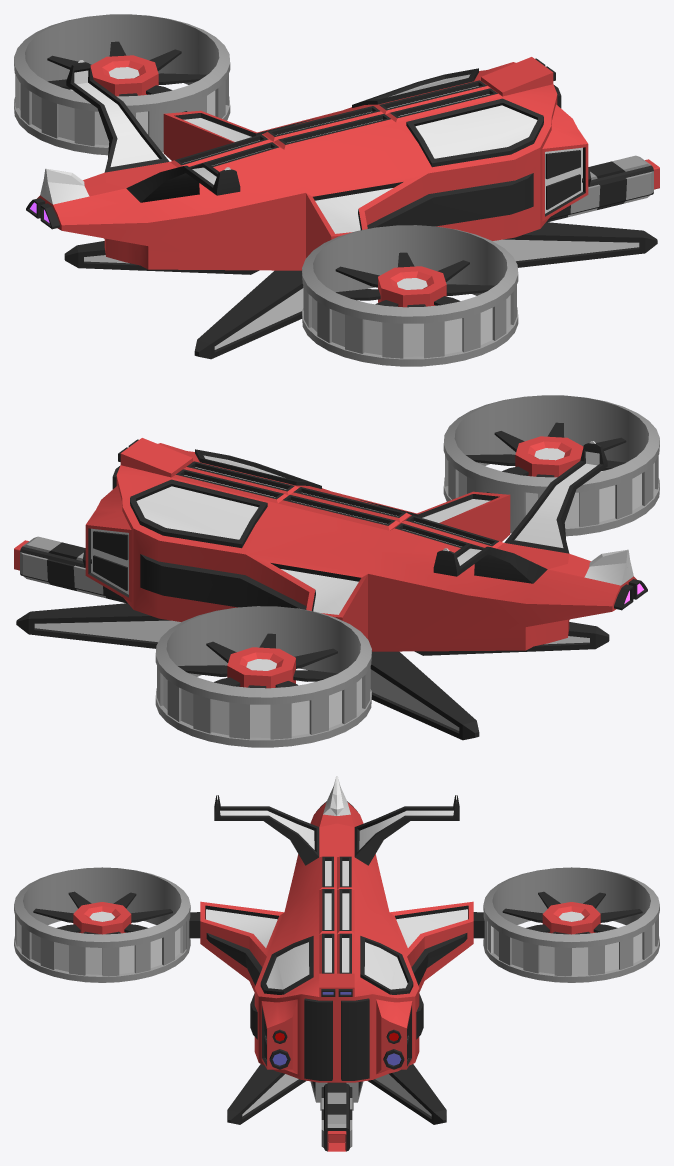
File: drone (3).fbx
The picture shows the model from 3 angles, top to bottom: view 1: azimuth 30°, elevation 25°; view 2: azimuth 150°, elevation 25°; view 3: azimuth 270°, elevation 25°; orthographic projection. The views are drawn at different scales.
Visible parts, largest first — view 1: body, propeller_right, propeller_left; view 2: body, propeller_left, propeller_right; view 3: body, propeller_left, propeller_right.
Boxes of the visible parts, x1,y1,x2,y2 form: body: (14, 14, 659, 366); propeller_right: (335, 252, 494, 307); propeller_left: (47, 41, 206, 96); body: (14, 395, 659, 747); propeller_left: (178, 633, 337, 688); propeller_right: (466, 422, 626, 477); body: (14, 776, 659, 1151); propeller_left: (502, 891, 642, 934); propeller_right: (33, 891, 172, 934).
Bounding box in the file's own units: 1652 × 527 × 1844.
